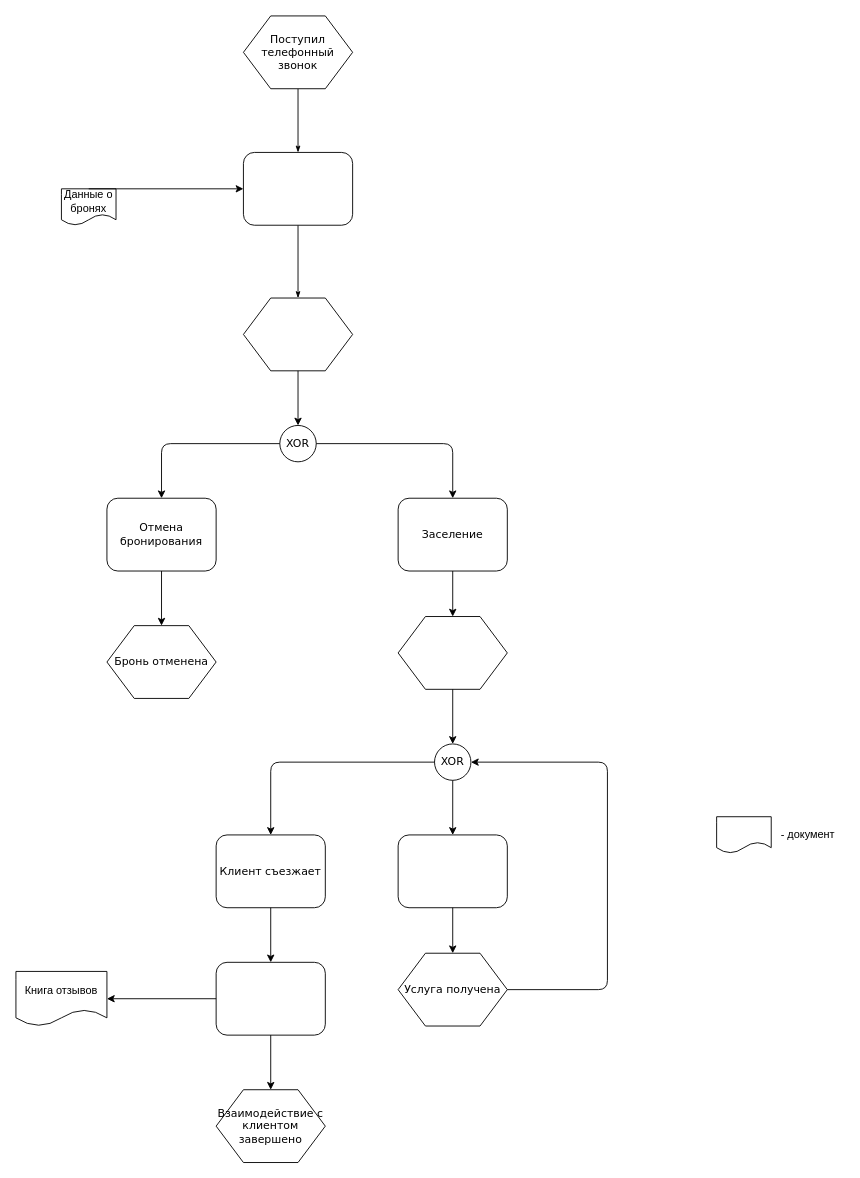
Some shapes in this 860 by 1178 pixel diagram are drawn without their labels. Here are the shapes that lost their labels. From the top down, the box of each, then its label:
(243, 152, 353, 225): Заказ номера в отеле
(243, 297, 353, 371): Номер заказан
(397, 616, 507, 689): Клиент заселился
(397, 834, 507, 908): Заказ услуг
(215, 961, 325, 1035): Создание отзыва
